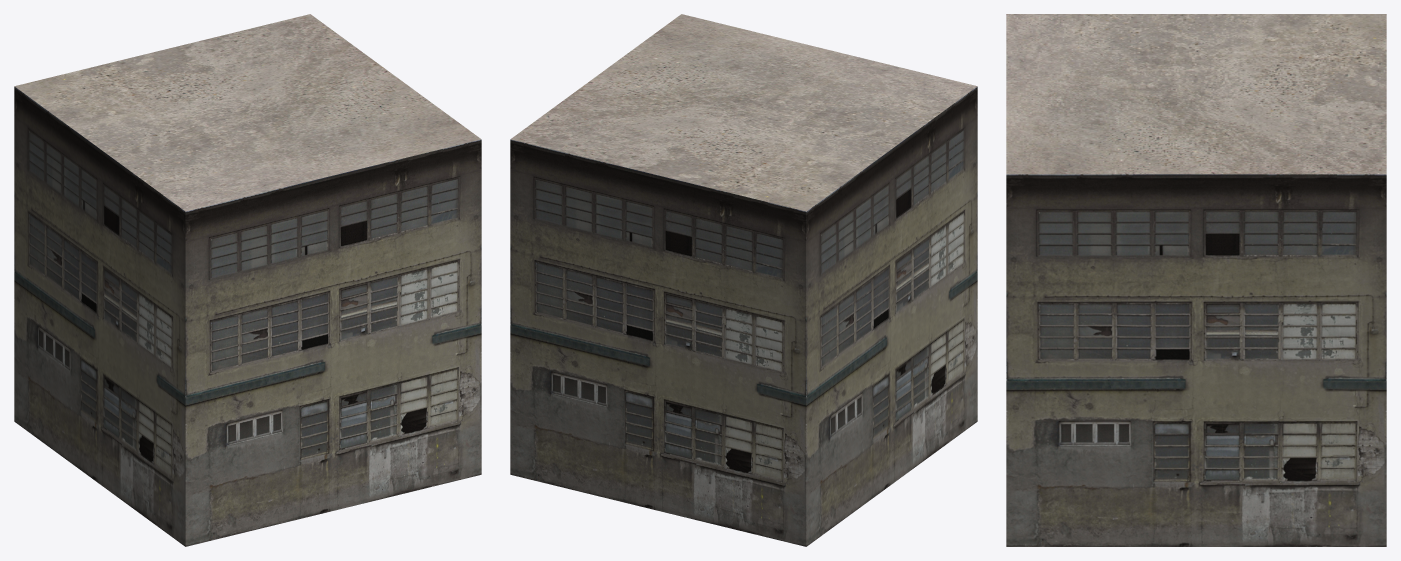
Rendered from BagBuilding9_0.fbx.
3 views of the same model, side by side, from view 1: azimuth 30°, elevation 25°; view 2: azimuth 150°, elevation 25°; view 3: azimuth 270°, elevation 25° (orthographic). The views are drawn at different scales.
Visible parts, largest first — view 1: Box0, roofA0; view 2: Box0, roofA0; view 3: Box0, roofA0.
Part boxes in pixels (x1,y1,x2,y2): Box0: (14, 86, 481, 546); roofA0: (14, 14, 480, 211); Box0: (510, 86, 977, 546); roofA0: (511, 14, 977, 211); Box0: (1006, 174, 1386, 546); roofA0: (1006, 14, 1386, 174).
Bounding box in the file's own units: 16.71 × 18.09 × 16.74.
